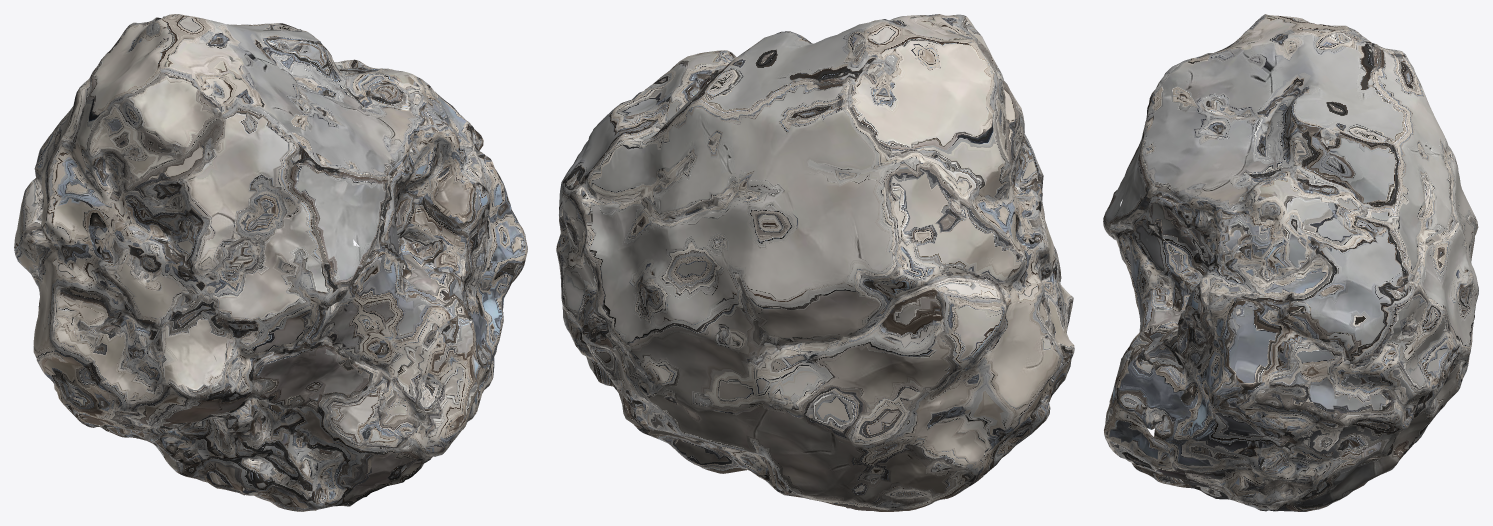
File: stone_metal.glb
3 views of the same model, side by side, from view 1: azimuth 30°, elevation 25°; view 2: azimuth 150°, elevation 25°; view 3: azimuth 270°, elevation 25° (orthographic). The views are drawn at different scales.
Bounding box in the file's own units: 97.15 × 97.59 × 77.11.
1 material, 1 textured.
